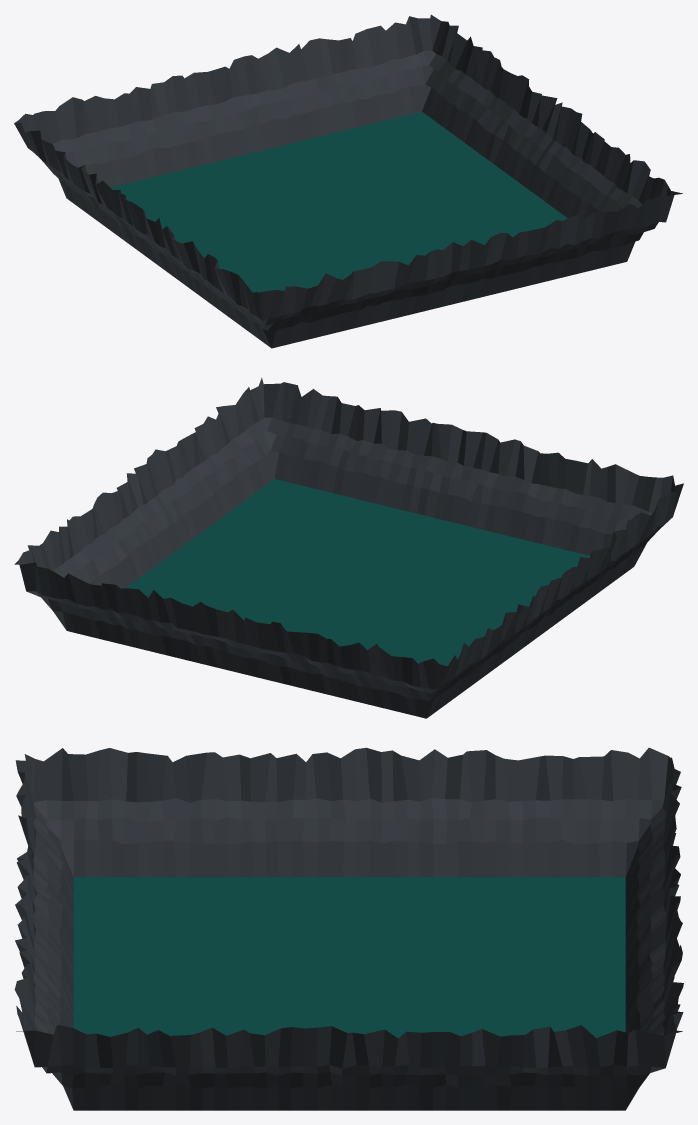
The model's file is cityFloor.fbx.
3 renders of one model, top to bottom at view 1: azimuth 30°, elevation 25°; view 2: azimuth 150°, elevation 25°; view 3: azimuth 270°, elevation 25°, orthographic. The views are drawn at different scales.
Parts seen in each view (by area): view 1: Plane; view 2: Plane; view 3: Plane.
Boxes of the visible parts, box(x1,y1,x2,y2) form: Plane: box(14, 14, 682, 348); Plane: box(14, 377, 683, 718); Plane: box(14, 747, 683, 1110).
Size of the model in its own units: 10215 by 1811 by 10230.
